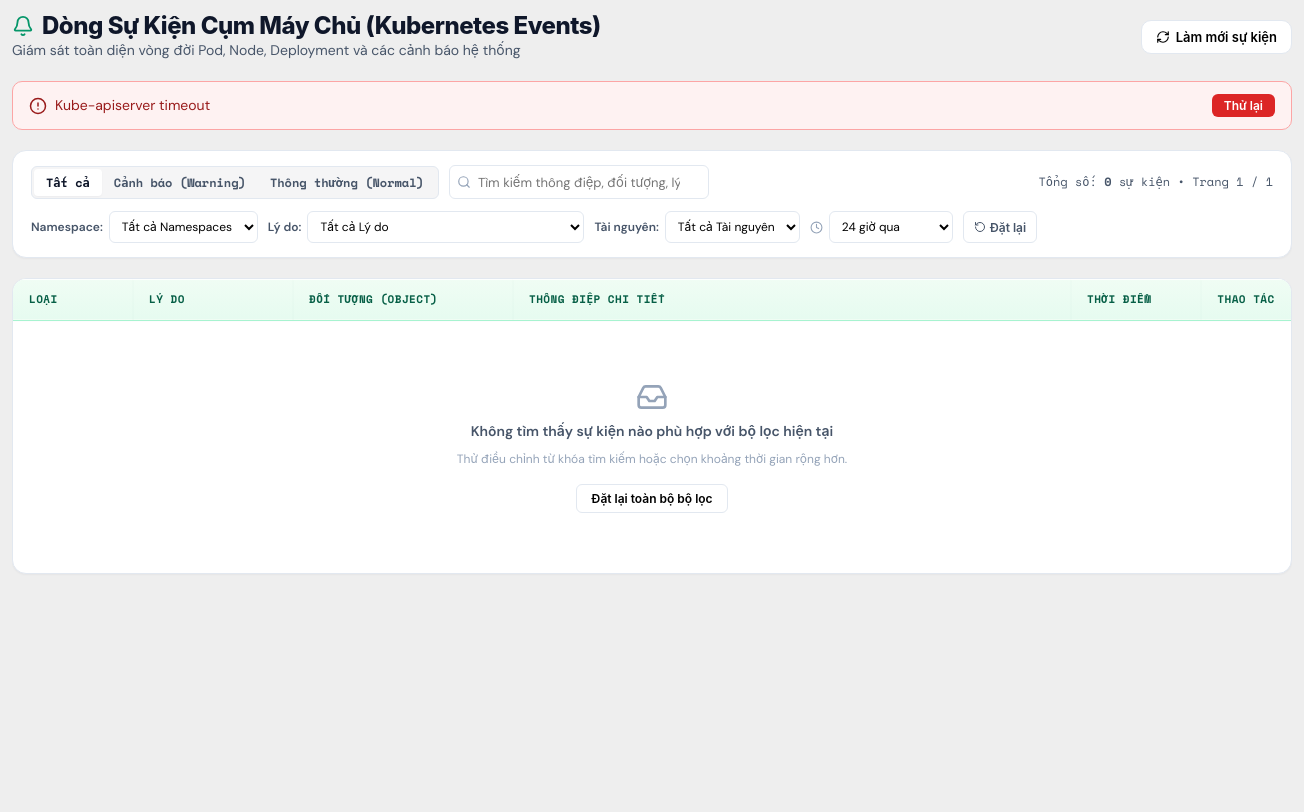
it: Task [S4][PB18] 4.1 – Kubernetes Events List & Filters UI Suite › 2. Rendering & Data Integration › 2.5. Displays error banner with retry button on API failure
Expected: the element with test id "events-error-banner" is shown, [12,81,1292,130]
Expected: the text "Kube-apiserver timeout" is shown, [55,95,210,116]
Click the button "Thử lại" at point(1243, 106), box [1212,94,1275,117]
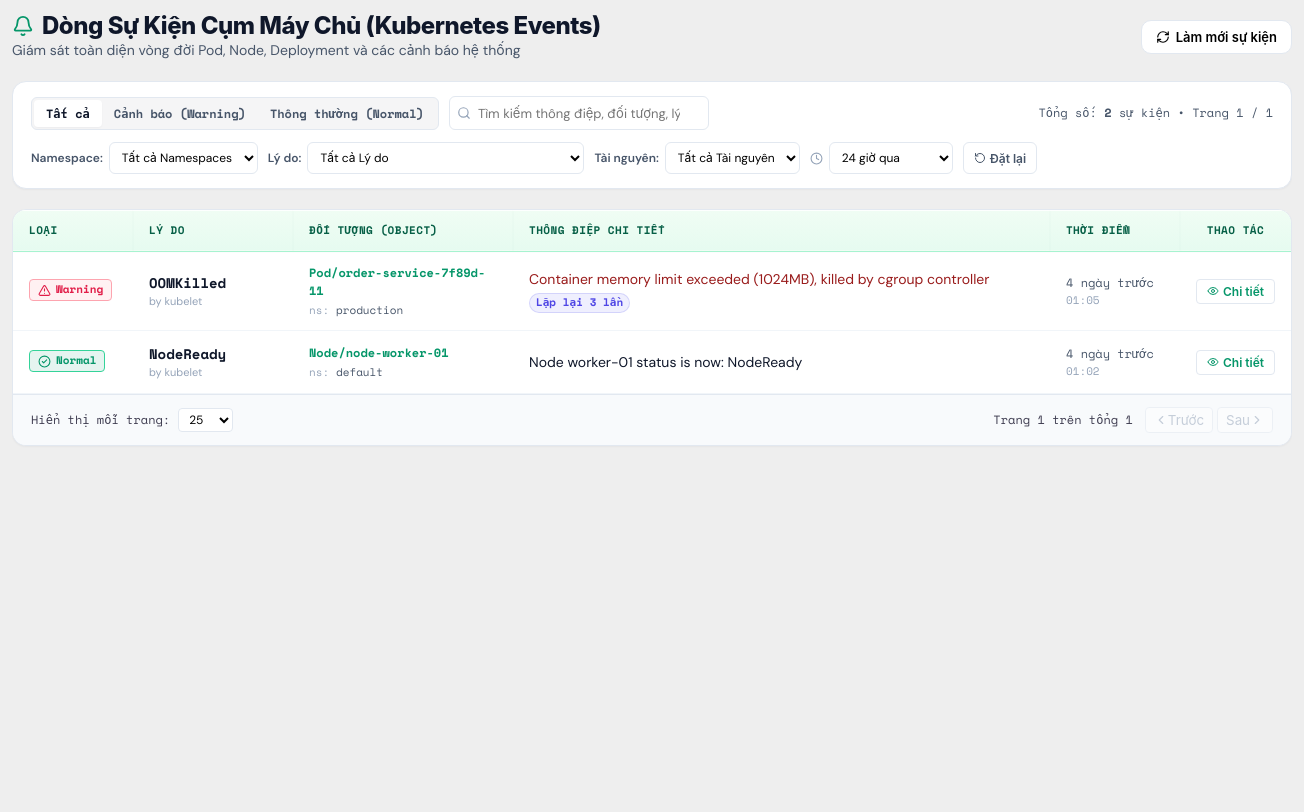
Result: the text "OOMKilled" is shown at [149,272,226,293]
